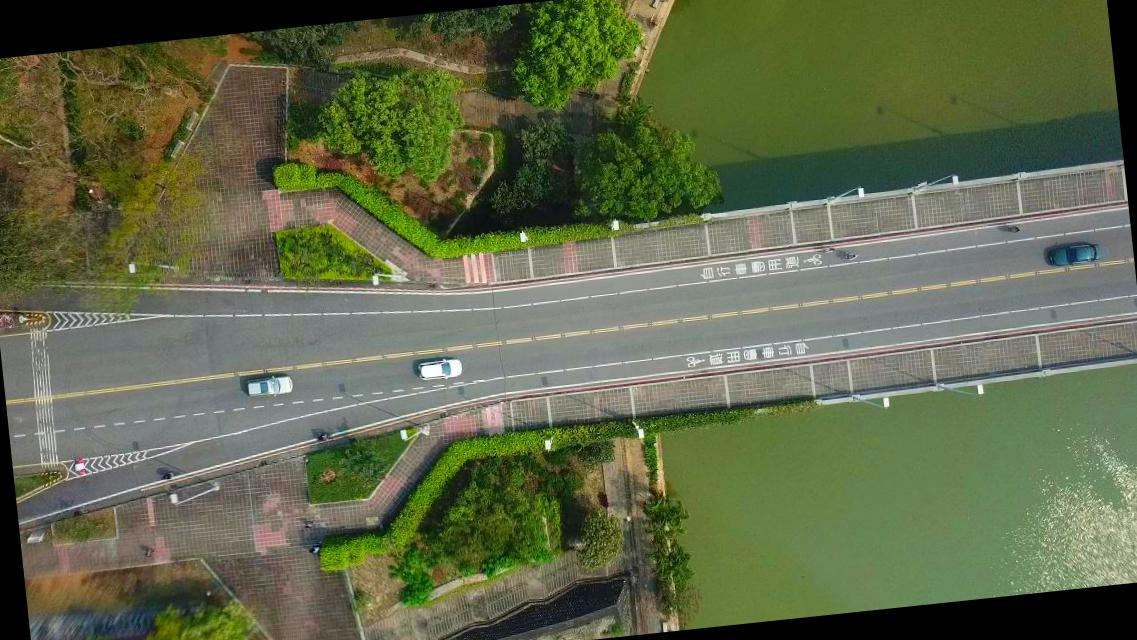vehicle: (1046, 240, 1101, 266), (244, 372, 293, 399), (416, 356, 462, 382)
